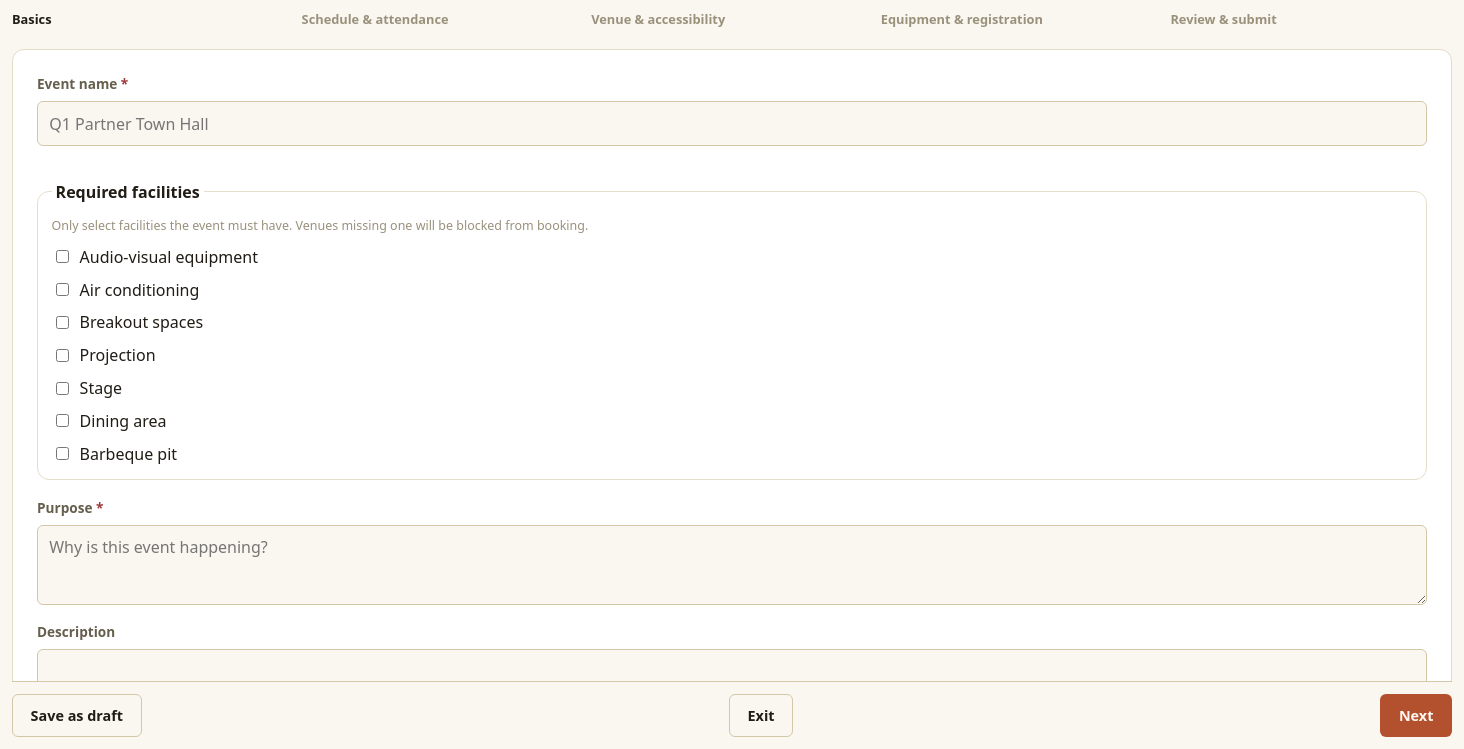
Test: EventRequestWizardPage — EO01 (save a draft) and EO02 (submit) › does not submit previously saved data when saving the current fields fails
Click the button "Next".
click(1416, 716)  # box top-left (1380, 694), bottom-right (1452, 737)
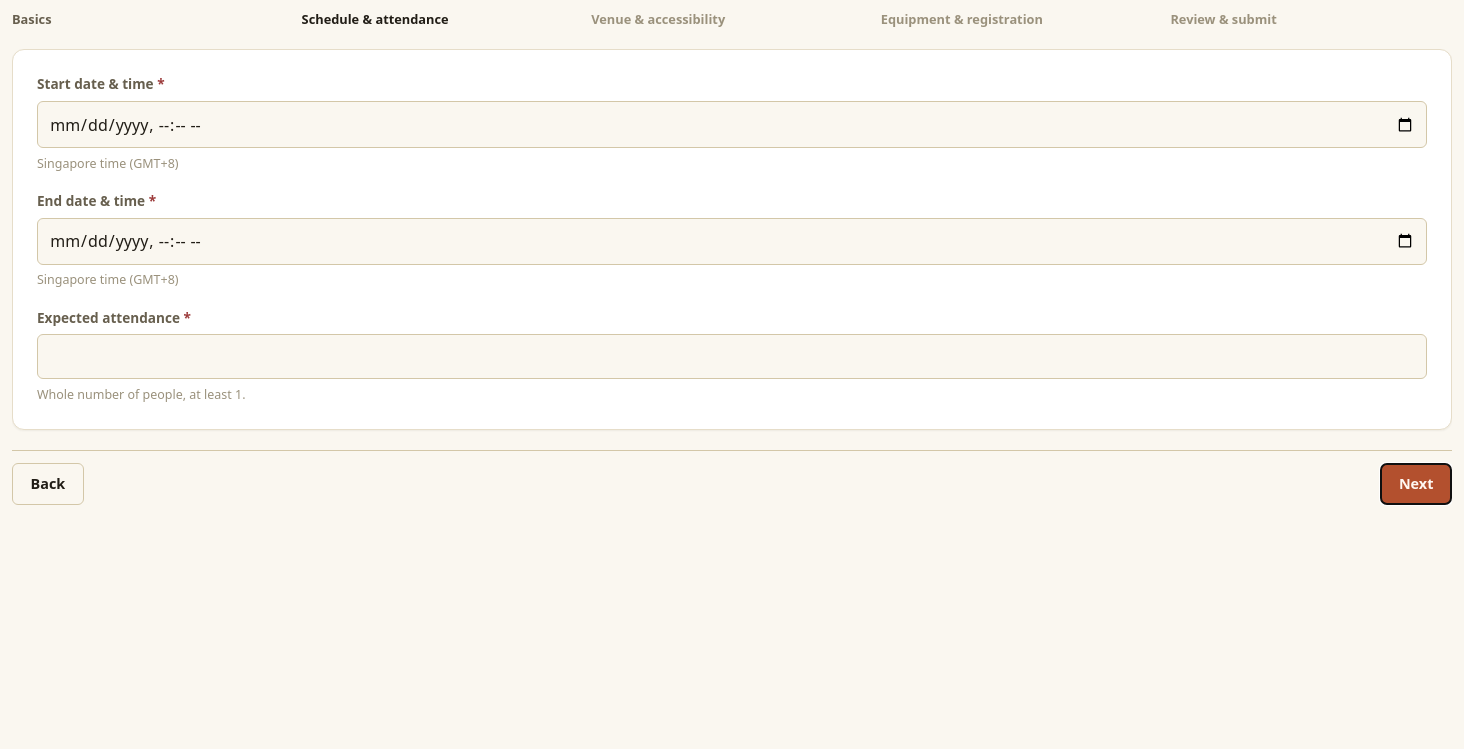
Click the button "Next".
click(1416, 484)  # box top-left (1380, 463), bottom-right (1452, 505)
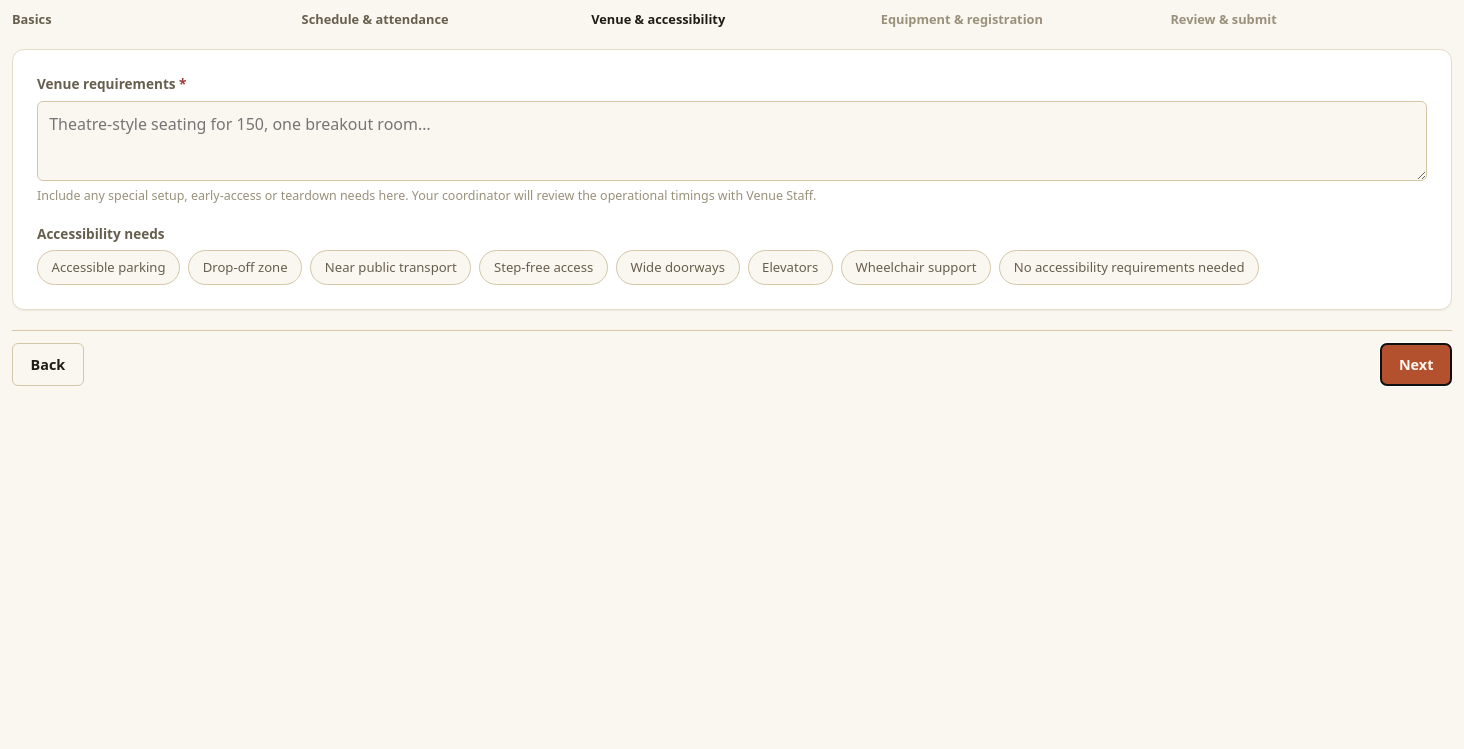
Click the button "Next".
click(1416, 364)  # box top-left (1380, 343), bottom-right (1452, 386)
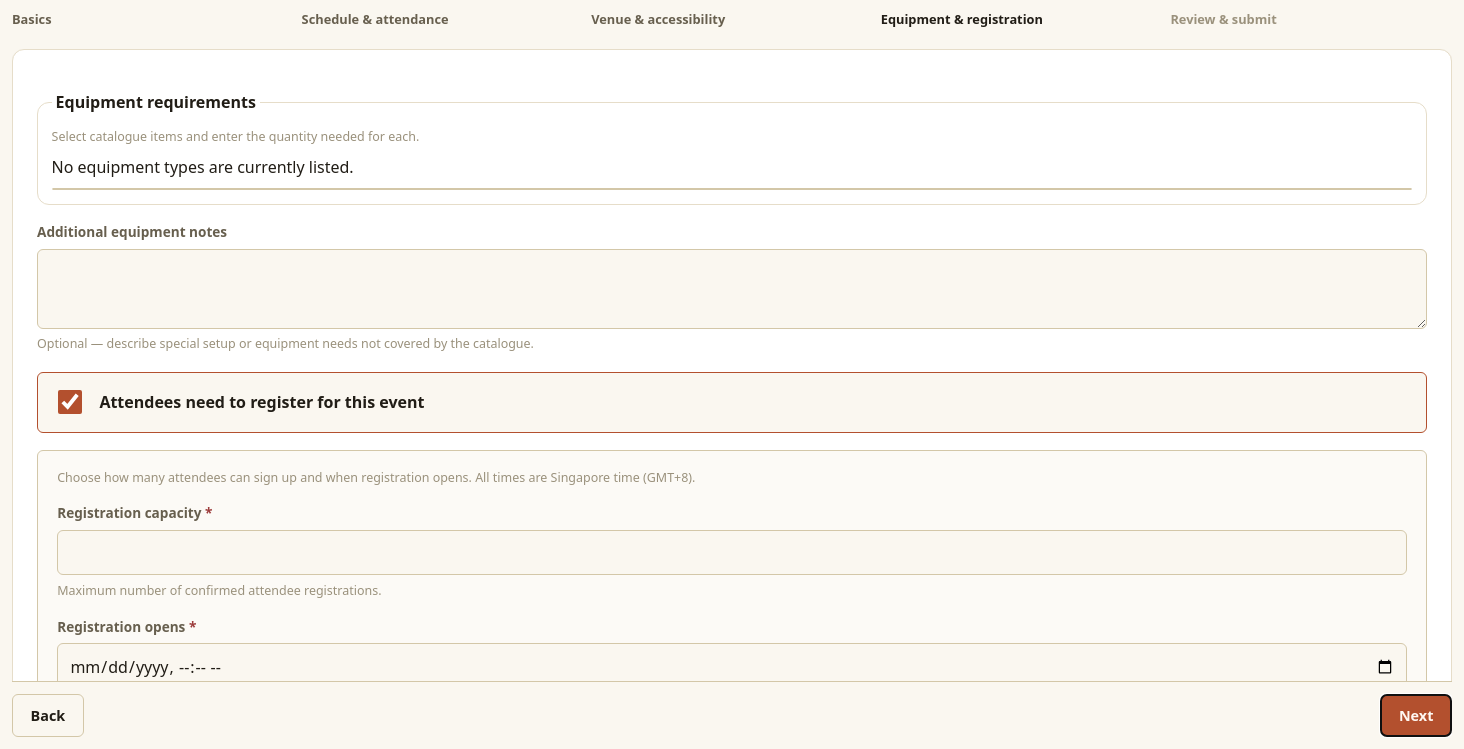
Click the button "Next".
click(1416, 716)  # box top-left (1380, 694), bottom-right (1452, 737)
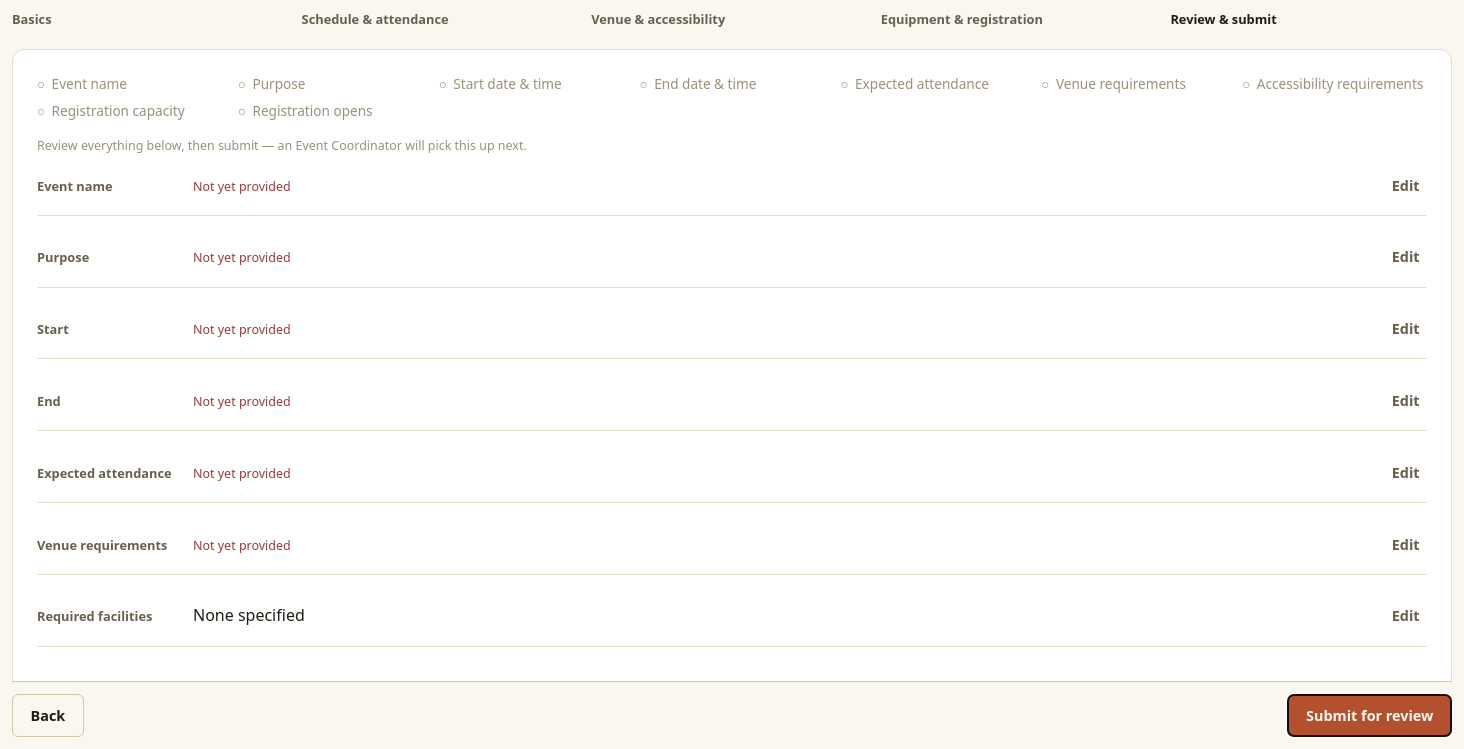
Click the button "Submit for review".
click(1370, 716)  # box top-left (1288, 694), bottom-right (1452, 737)
(page scrolled)
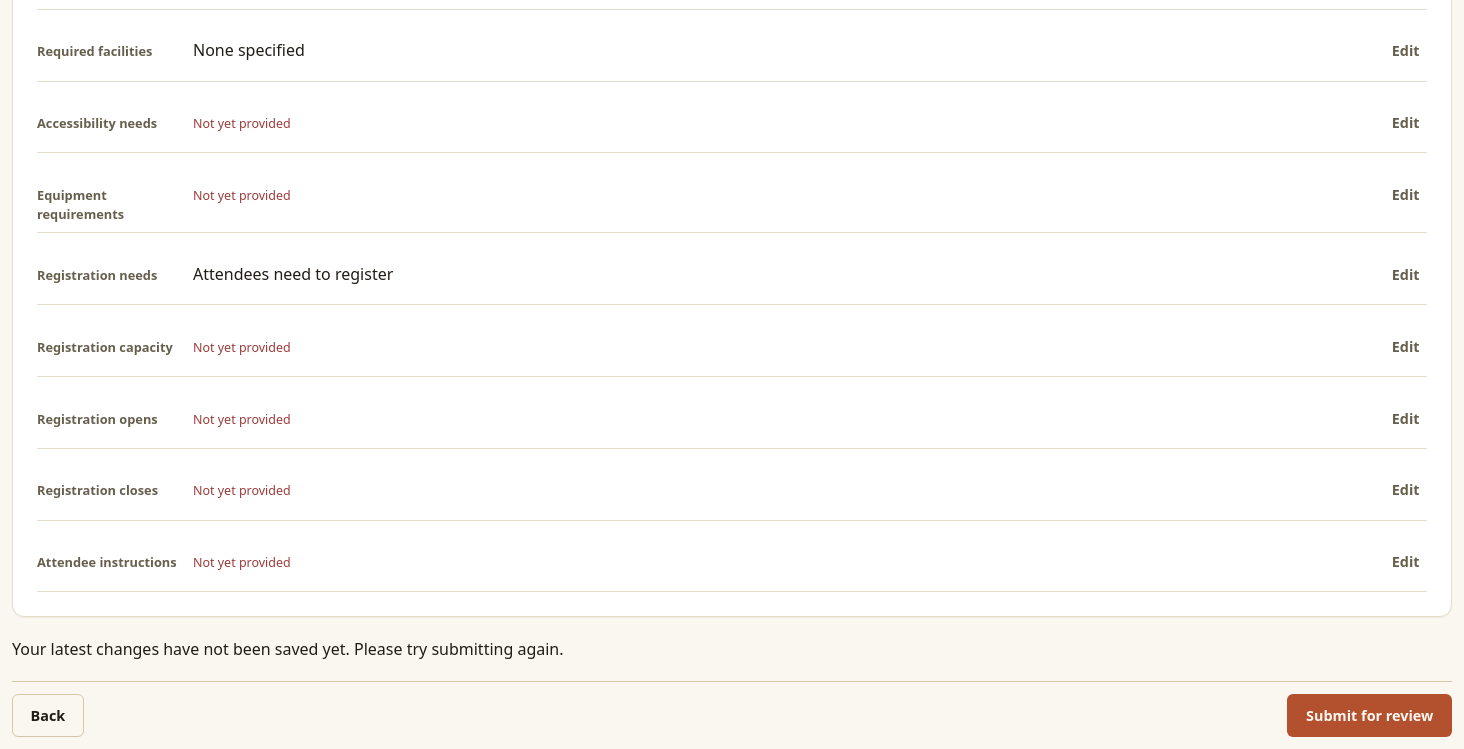
Expected: the message shows "latest changes have not been saved", top-left (12, 638), bottom-right (564, 660)
